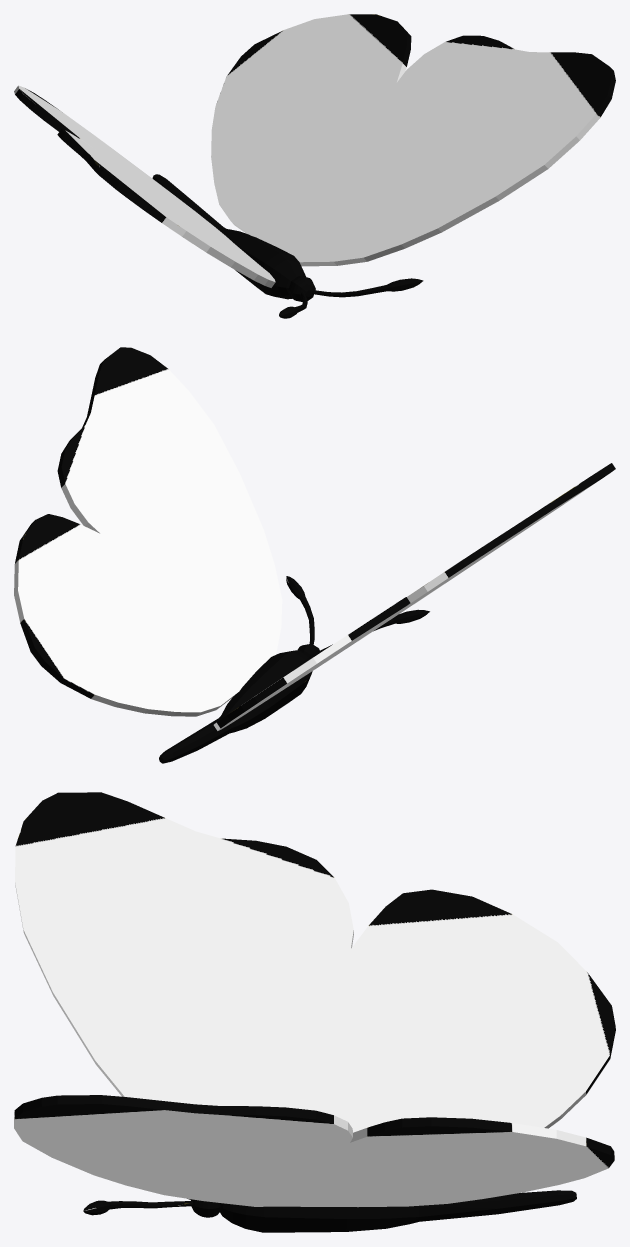
File: butterfly_white.obj
3 views of the same model, one above another, from view 1: azimuth 30°, elevation 25°; view 2: azimuth 150°, elevation 25°; view 3: azimuth 270°, elevation 25° (orthographic). The views are drawn at different scales.
Parts seen in each view (by area): view 1: Butterfly_white; view 2: Butterfly_white; view 3: Butterfly_white.
Part boxes in pixels (<box>): Butterfly_white: <box>14,14,615,318</box>; Butterfly_white: <box>14,347,615,763</box>; Butterfly_white: <box>14,792,615,1232</box>.
Bounding box in the file's own units: 3.15 × 1.41 × 2.63.
1 material, 1 textured.
